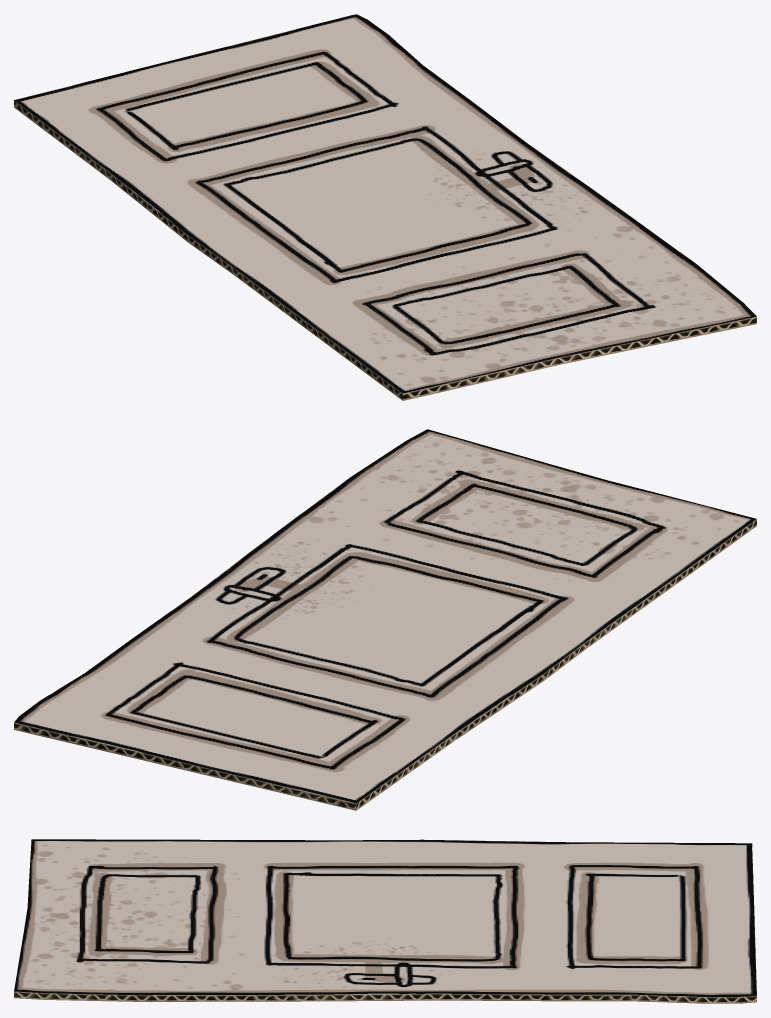
File: door.fbx
3 renders of one model, top to bottom at view 1: azimuth 30°, elevation 25°; view 2: azimuth 150°, elevation 25°; view 3: azimuth 270°, elevation 25°, orthographic. The views are drawn at different scales.
Parts seen in each view (by area): view 1: Plane; view 2: Plane; view 3: Plane.
Boxes of the visible parts, x1=… form: Plane: x1=14, y1=14, x2=756, y2=400; Plane: x1=14, y1=429, x2=756, y2=810; Plane: x1=14, y1=839, x2=756, y2=1003.
Size of the model in its own units: 2.53 by 0.05 by 5.04.
